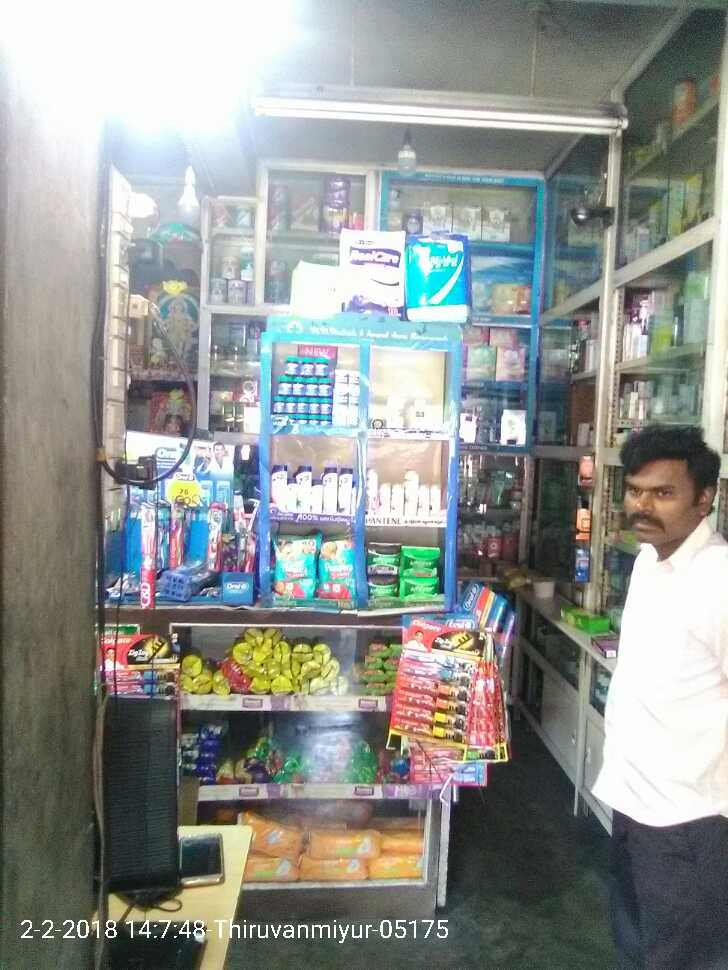oralcare: (461, 580, 518, 657), (219, 532, 256, 602), (138, 503, 167, 569), (168, 502, 193, 567), (208, 503, 224, 571)
vicks: (262, 354, 359, 432)
